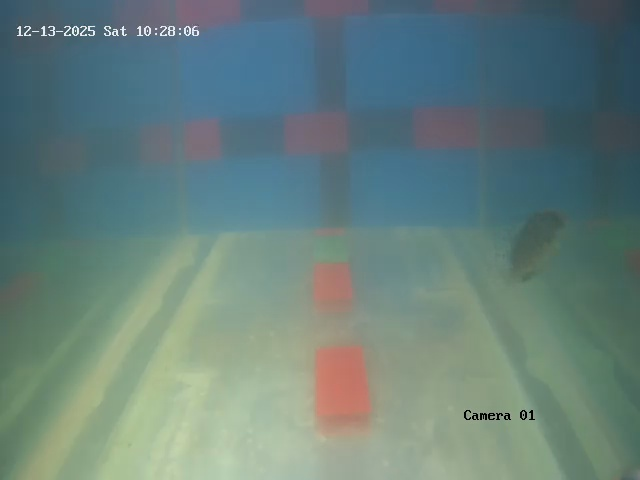fish: (500, 209, 567, 281)
